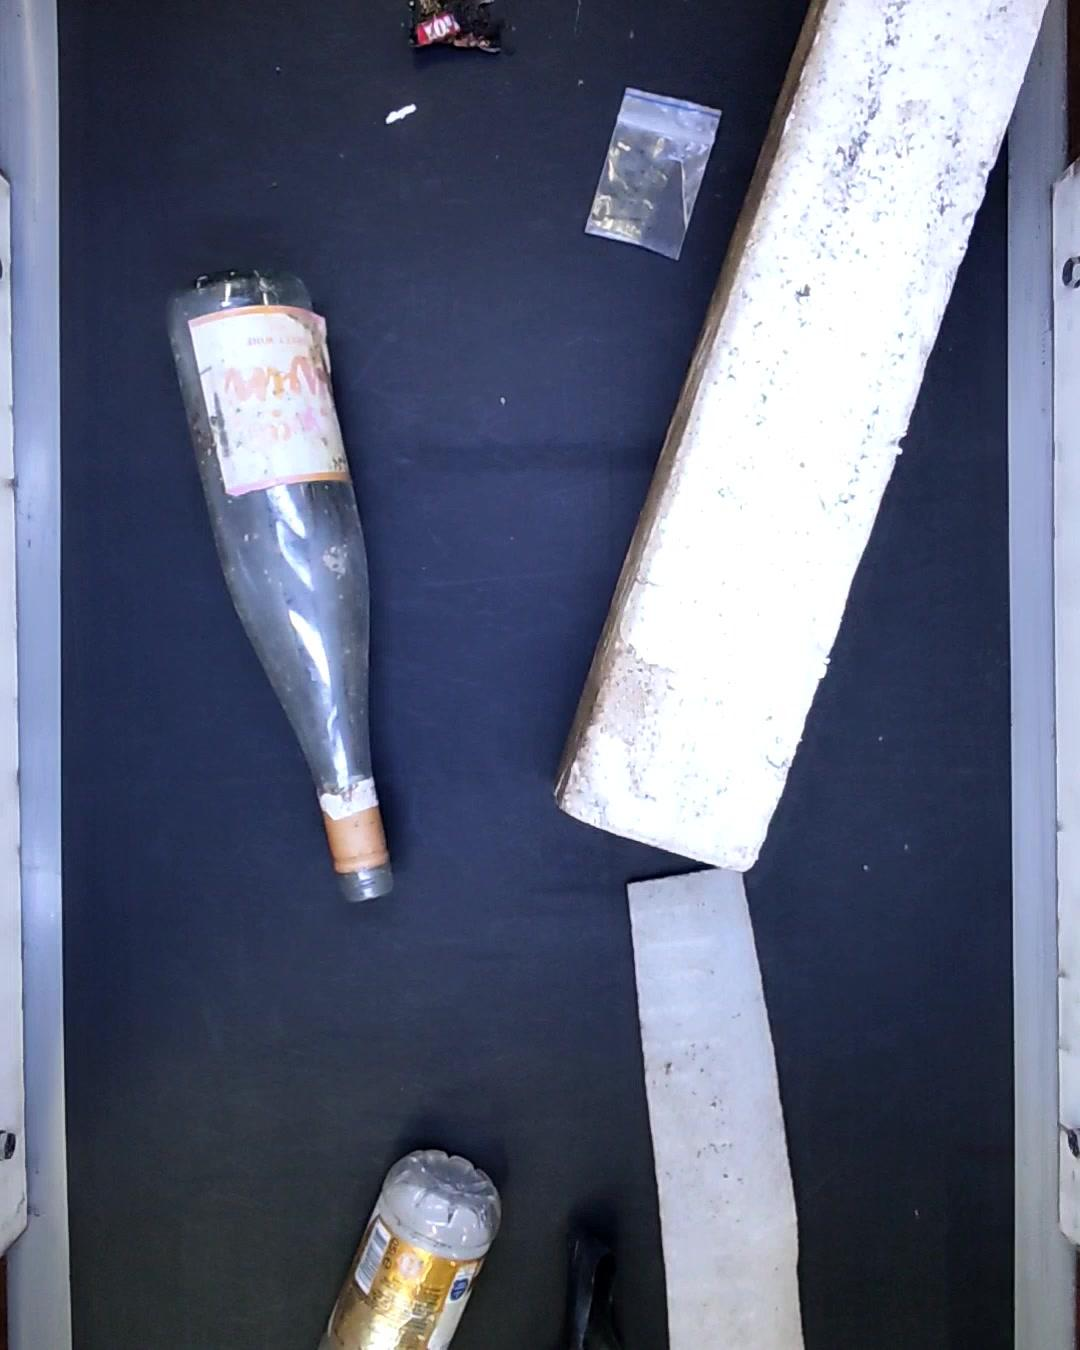Drankflessen - 1-2 liter: (314, 1148, 500, 1350)
